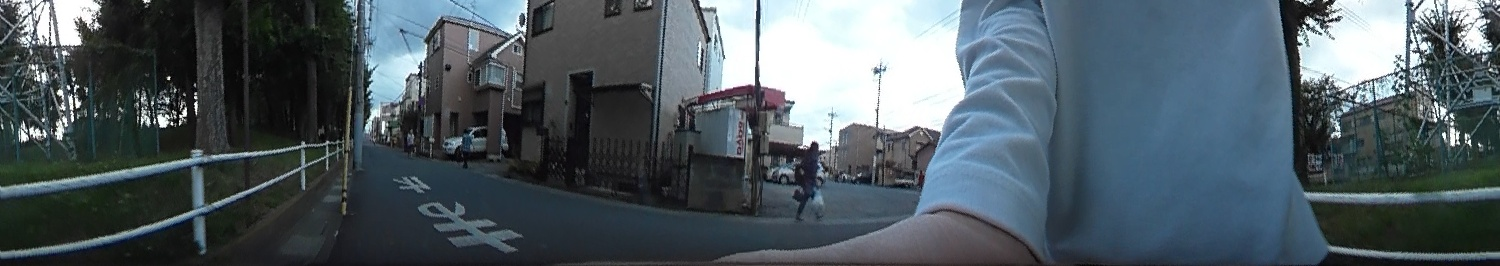difficult_person: (459, 126, 474, 166), (402, 125, 416, 154)
person: (792, 140, 824, 222)
